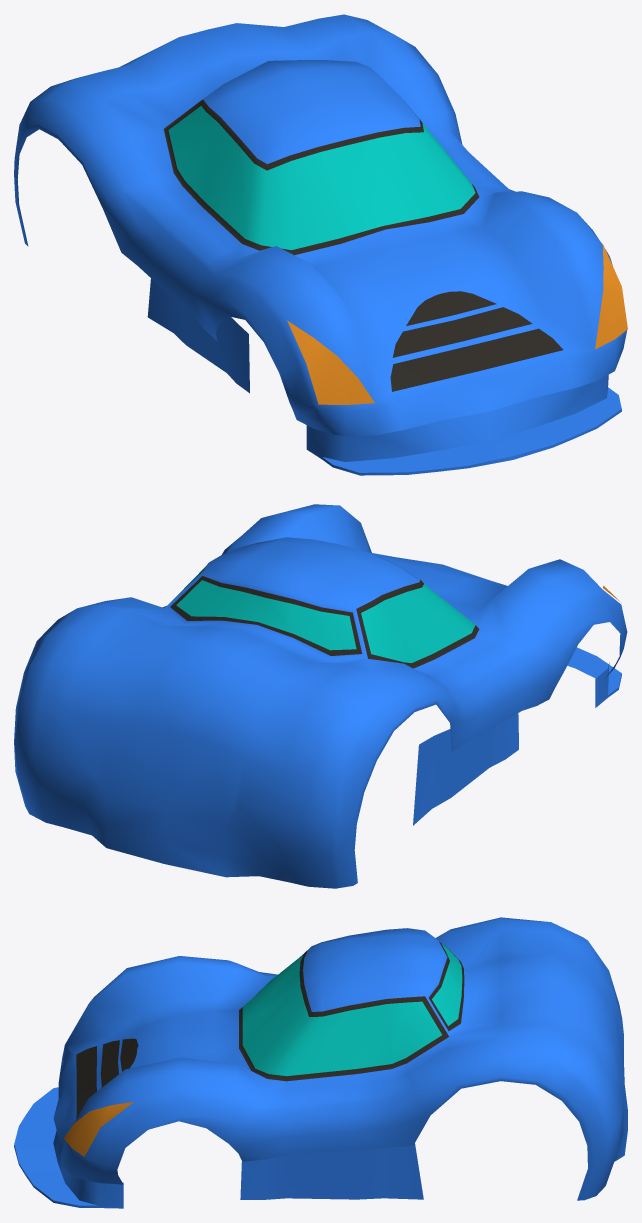
The model's file is LuxCasing01C02.gltf.
The picture shows the model from 3 angles, top to bottom: view 1: azimuth 30°, elevation 25°; view 2: azimuth 150°, elevation 25°; view 3: azimuth 270°, elevation 25°; orthographic projection. The views are drawn at different scales.
Parts seen in each view (by area): view 1: LuxCasing01C02; view 2: LuxCasing01C02; view 3: LuxCasing01C02.
Part boxes in pixels (x1,y1,x2,y2): LuxCasing01C02: [14, 14, 627, 475]; LuxCasing01C02: [14, 504, 627, 888]; LuxCasing01C02: [14, 917, 627, 1208].
Size of the model in its own units: 0.2129 by 0.1281 by 0.3597.
